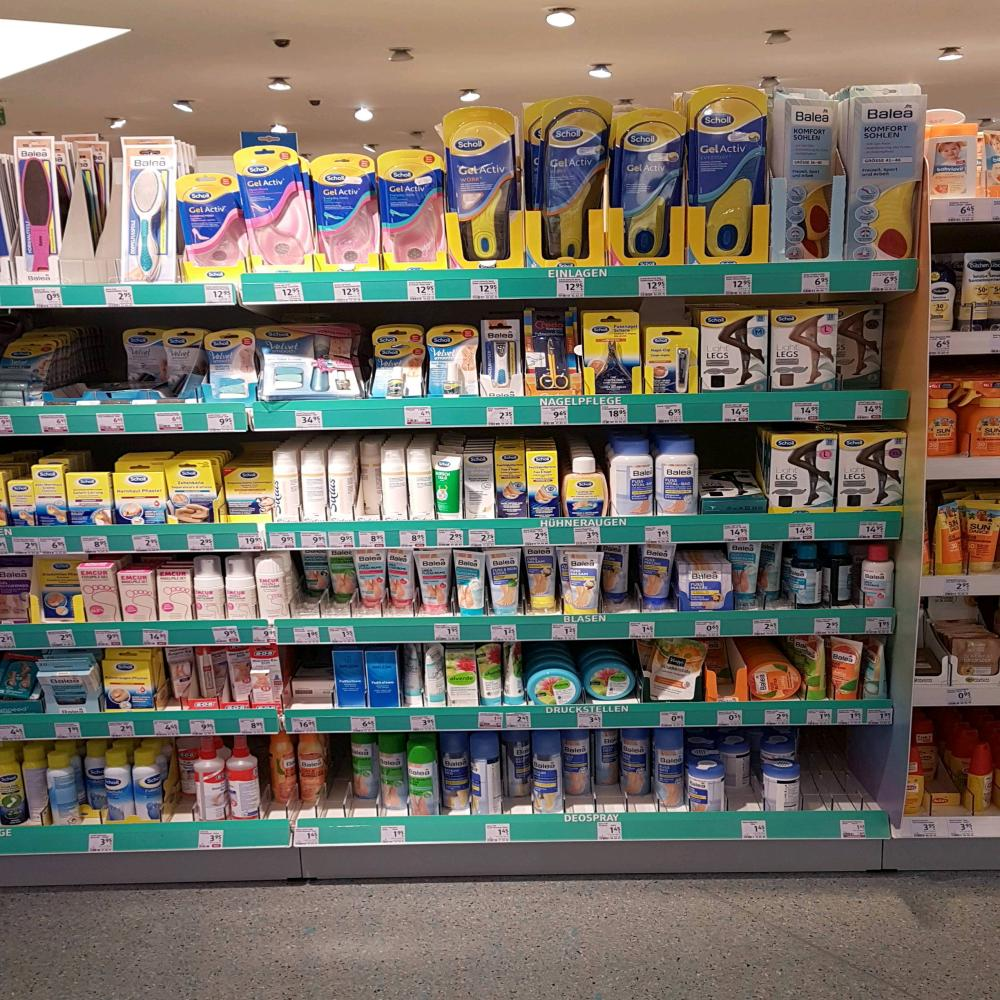shelf: (0, 504, 899, 558), (0, 387, 908, 436), (0, 261, 919, 308), (0, 809, 889, 854), (0, 700, 889, 742), (0, 610, 895, 650)
